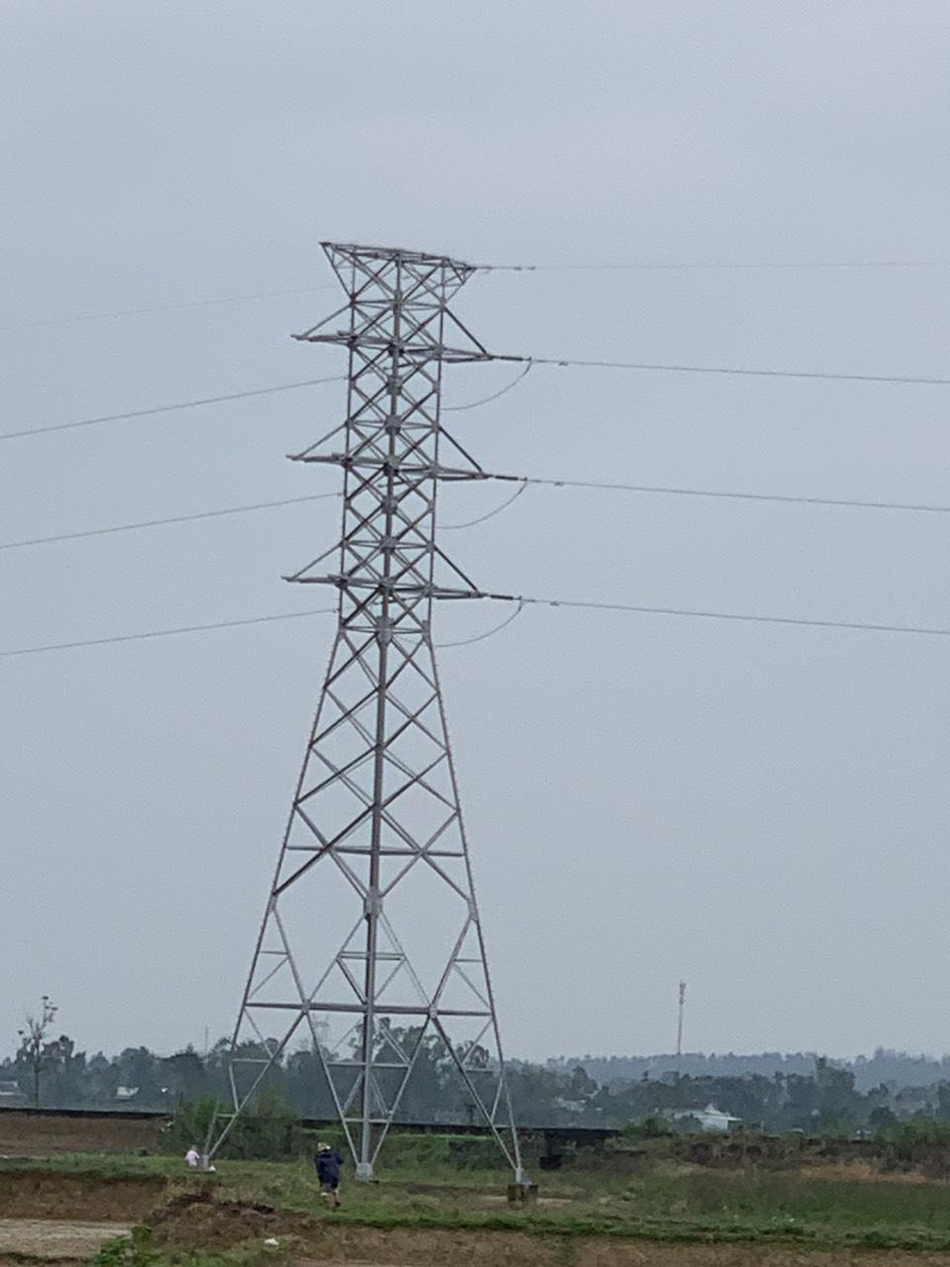power_tower: (218, 216, 534, 1202)
